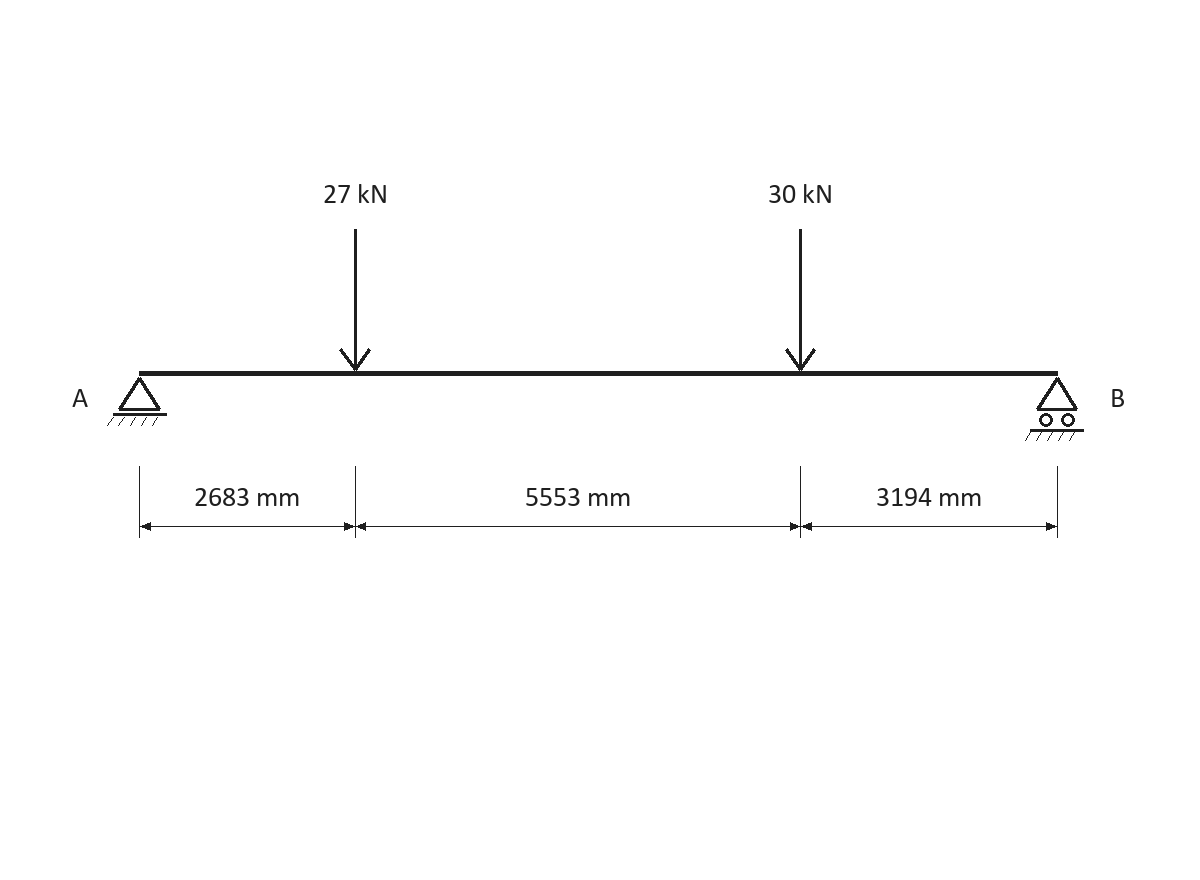pin_support: (107, 377, 167, 426)
point_load: (339, 229, 371, 371), (785, 229, 816, 371)
roller_support: (1025, 377, 1084, 441)
